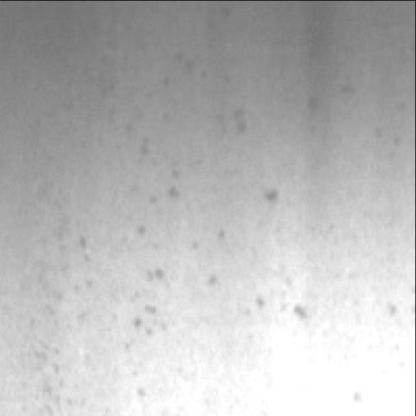pitted_surface: (41, 112, 196, 406)
